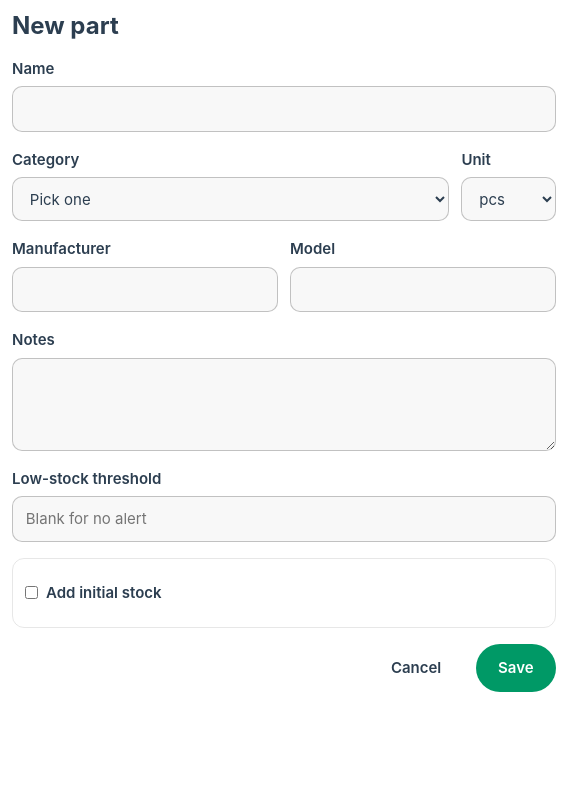
it: New part (spec §4.6) › required fields and limits are explained; nothing is sent
Type "1.5" into the field labelled "Low-stock threshold" at (284, 519), box [12,496,556,542]
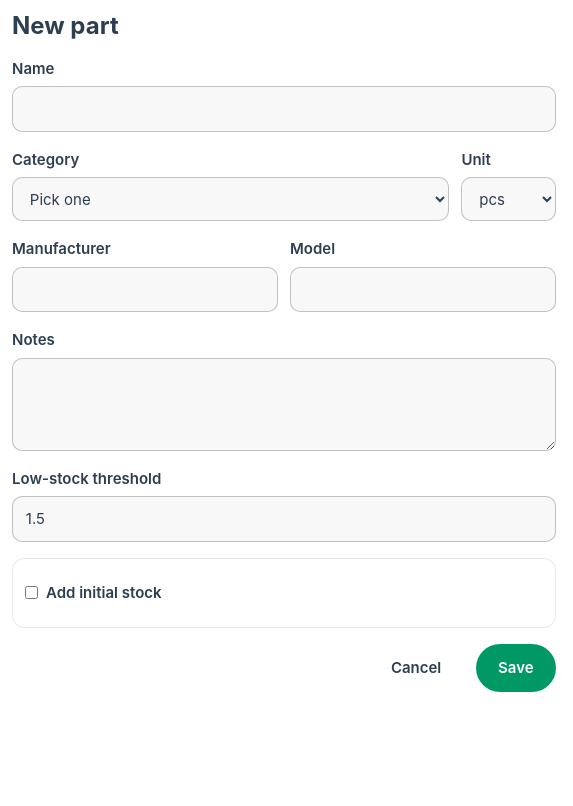
Submit the form
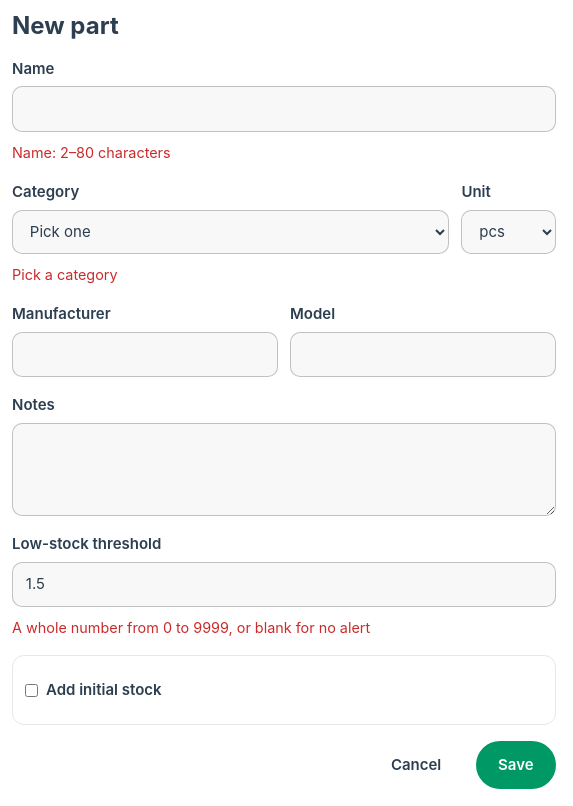
Now the text "Name: 2–80 characters" is shown, box [12,144,171,161]
Now the text "Pick a category" is shown, box [12,266,118,283]
Now the text "or blank for no alert" is shown, box [12,619,370,636]
